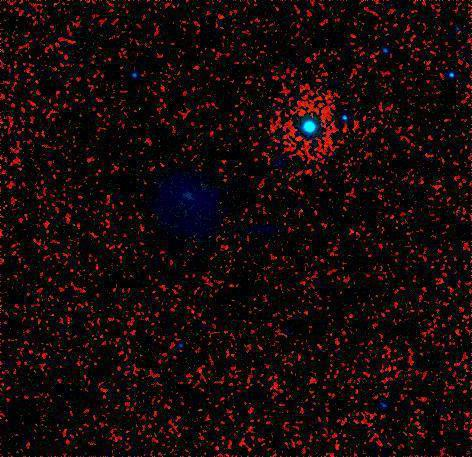star: (299, 364, 329, 394)
